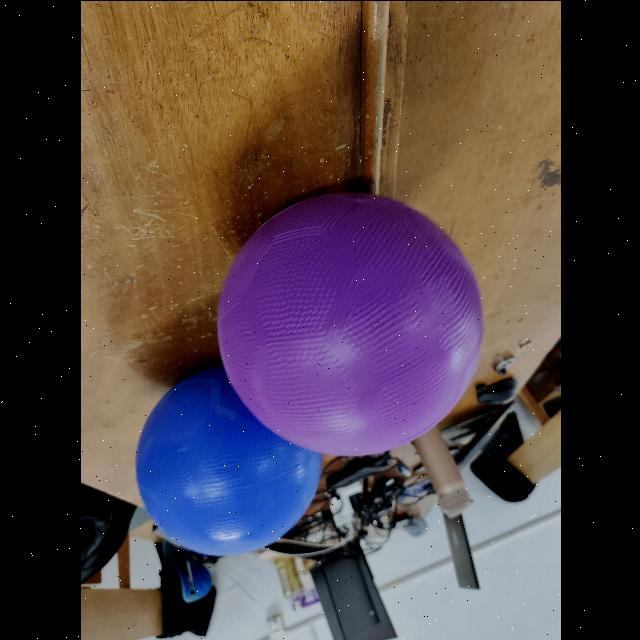B: (134, 365, 322, 557)
P: (214, 190, 486, 456)
